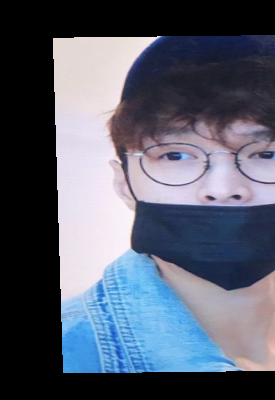mask_weared_incorrect: (100, 24, 275, 292)
